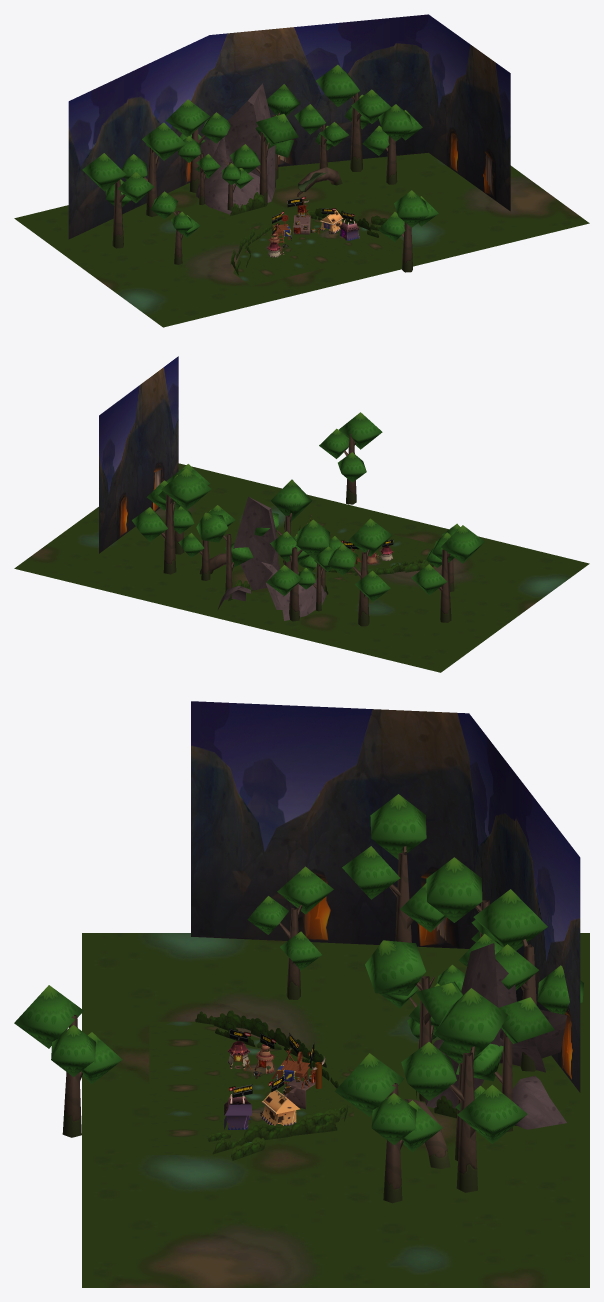
Rendered from mainmenu.fbx.
The picture shows the model from 3 angles, top to bottom: view 1: azimuth 30°, elevation 25°; view 2: azimuth 150°, elevation 25°; view 3: azimuth 270°, elevation 25°; orthographic projection. The views are drawn at different scales.
Visible parts, largest first — view 1: shop_bj, shop_dimian2, shop_shu04, shop_dimian, shop_shu06, shop_shu02, shop_shu09, shop_shu09_1, shop_shu03, shop_shu07, shop_shu01, shop_shu05 (+2 smaller); view 2: shop_dimian2, shop_bj, shop_shu04, shop_shu06, shop_shu03, shop_dimian, shop_shu02, shop_shu09, shop_shu05, shop_shu09_1, shop_shu07, shop_shu01; view 3: shop_dimian2, shop_bj, shop_shu04, shop_dimian, shop_shu06, shop_shu02, shop_shu09, shop_shu09_1, shop_shu01, shop_shu05, shop_shu03, shop_tavern (+4 smaller).
Boxes of the visible parts, left/top/right/bottom form: shop_bj: left=68, top=14, right=510, bottom=239; shop_dimian2: left=14, top=152, right=589, bottom=327; shop_shu04: left=166, top=83, right=298, bottom=215; shop_dimian: left=233, top=217, right=403, bottom=285; shop_shu06: left=316, top=64, right=391, bottom=171; shop_shu02: left=82, top=153, right=154, bottom=248; shop_shu09: left=378, top=190, right=438, bottom=272; shop_shu09_1: left=362, top=104, right=422, bottom=184; shop_shu03: left=121, top=122, right=185, bottom=216; shop_shu07: left=294, top=104, right=348, bottom=180; shop_shu01: left=151, top=191, right=200, bottom=264; shop_shu05: left=266, top=84, right=300, bottom=179; shop_dimian2: left=14, top=463, right=589, bottom=672; shop_bj: left=99, top=356, right=178, bottom=553; shop_shu04: left=218, top=479, right=343, bottom=621; shop_shu06: left=132, top=468, right=211, bottom=574; shop_shu03: left=328, top=518, right=392, bottom=626; shop_dimian: left=284, top=512, right=434, bottom=580; shop_shu02: left=411, top=525, right=484, bottom=622; shop_shu09: left=319, top=412, right=382, bottom=504; shop_shu05: left=196, top=512, right=253, bottom=591; shop_shu09_1: left=146, top=464, right=210, bottom=554; shop_shu07: left=178, top=505, right=235, bottom=580; shop_shu01: left=426, top=523, right=460, bottom=591; shop_dimian2: left=82, top=933, right=589, bottom=1287; shop_bj: left=191, top=701, right=580, bottom=1092; shop_shu04: left=365, top=889, right=583, bottom=1129; shop_dimian: left=149, top=1021, right=353, bottom=1154; shop_shu06: left=401, top=988, right=527, bottom=1192; shop_shu02: left=342, top=794, right=445, bottom=942; shop_shu09: left=14, top=985, right=122, bottom=1137; shop_shu09_1: left=334, top=1053, right=442, bottom=1203; shop_shu01: left=247, top=866, right=333, bottom=999; shop_shu05: left=456, top=997, right=554, bottom=1131; shop_shu03: left=426, top=857, right=502, bottom=946; shop_tavern: left=261, top=1090, right=299, bottom=1125.
Size of the model in its own units: 14146 by 4551 by 9706.
